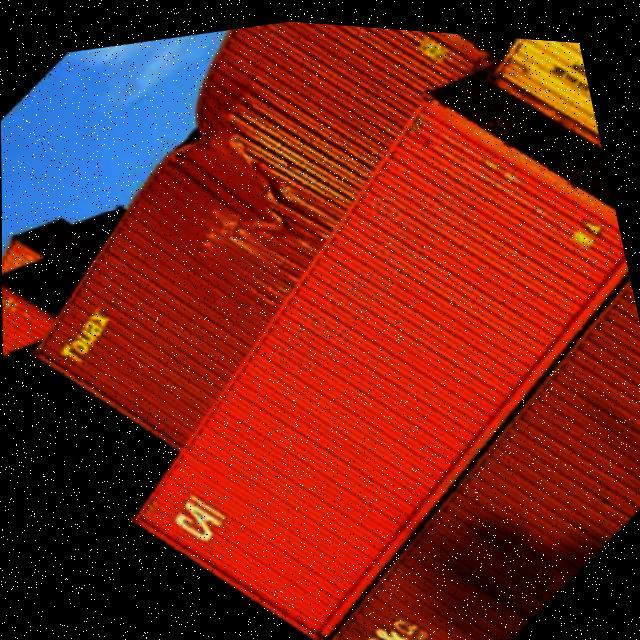dent: (172, 89, 298, 250)
